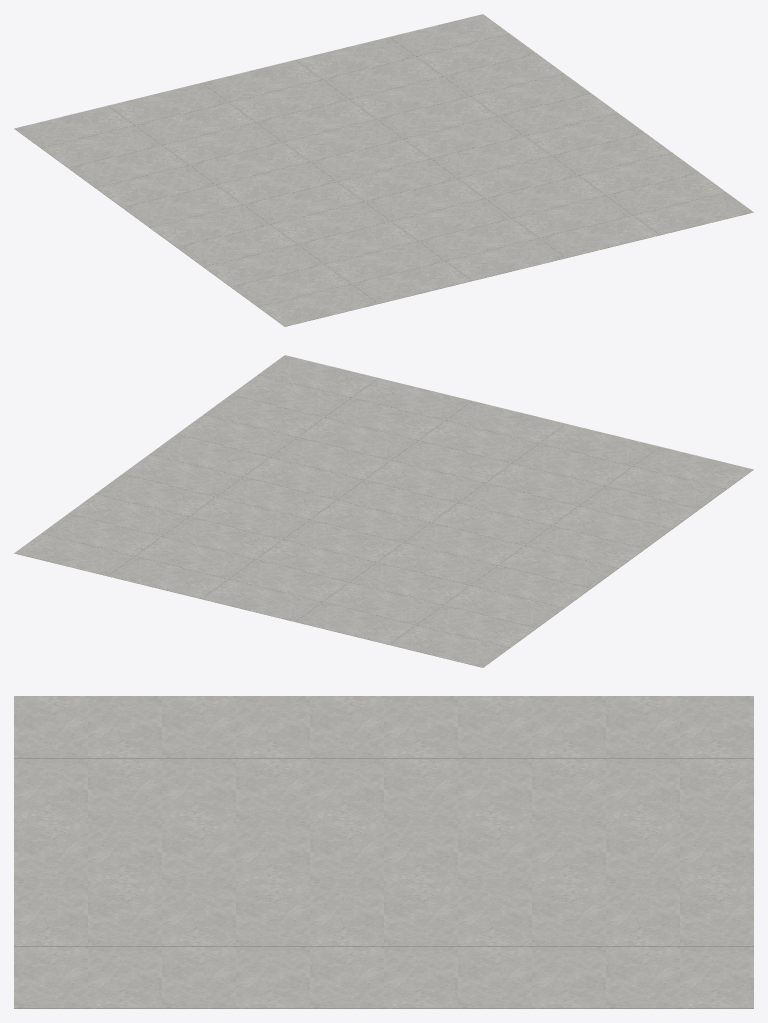
File: lux-grey-80x160.glb
3 views of the same model, one above another, from view 1: azimuth 30°, elevation 25°; view 2: azimuth 150°, elevation 25°; view 3: azimuth 270°, elevation 25° (orthographic). The views are drawn at different scales.
Visible parts, largest first — view 1: Lux Grey; view 2: Lux Grey; view 3: Lux Grey.
Boxes of the visible parts, x1,y1,x2,y2 form: Lux Grey: (14,14,753,326); Lux Grey: (14,355,753,667); Lux Grey: (14,696,753,1008).
Bounding box in the file's own units: 8 × 0.003 × 8.
Materials: 2 (1 with a texture image).
